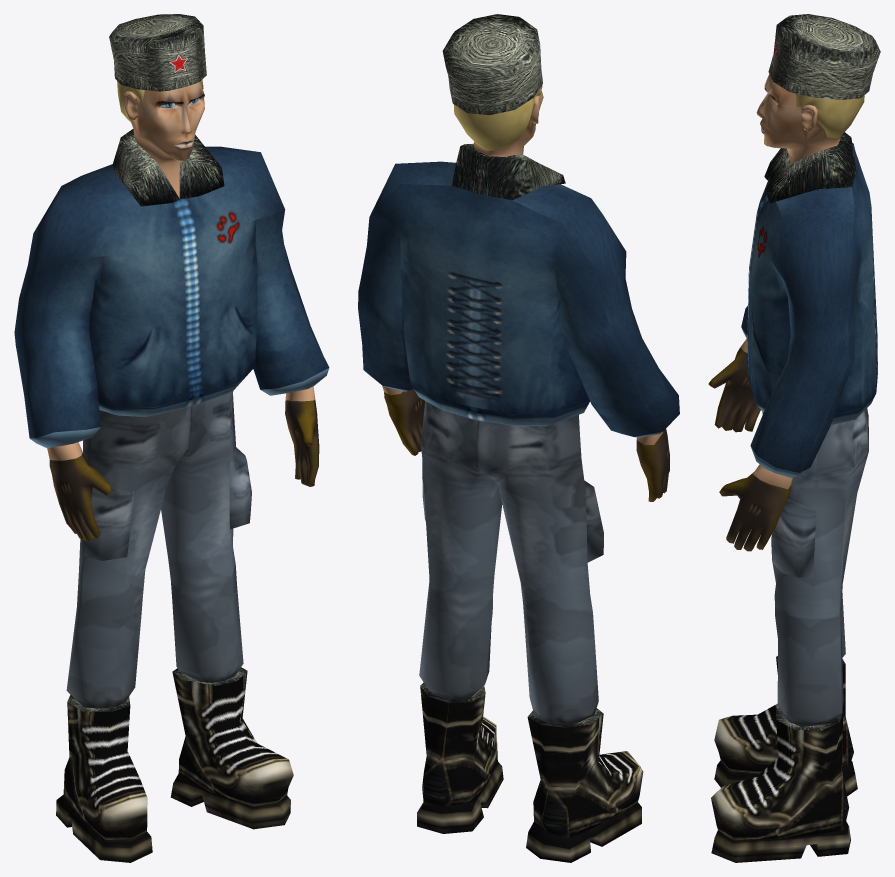
The model's file is Sergei Kouglov.glb.
The picture shows the model from 3 angles, left to right: view 1: azimuth 30°, elevation 25°; view 2: azimuth 150°, elevation 25°; view 3: azimuth 270°, elevation 25°; orthographic projection.
Visible parts, largest first — view 1: SergeiOK; view 2: SergeiOK; view 3: SergeiOK.
Boxes of the visible parts, <box> form: SergeiOK: <box>14,14,329,862</box>; SergeiOK: <box>358,14,679,862</box>; SergeiOK: <box>708,14,880,862</box>.
Size of the model in its own units: 1.99 by 5.02 by 0.9818.
Materials: 1 (1 with a texture image).
